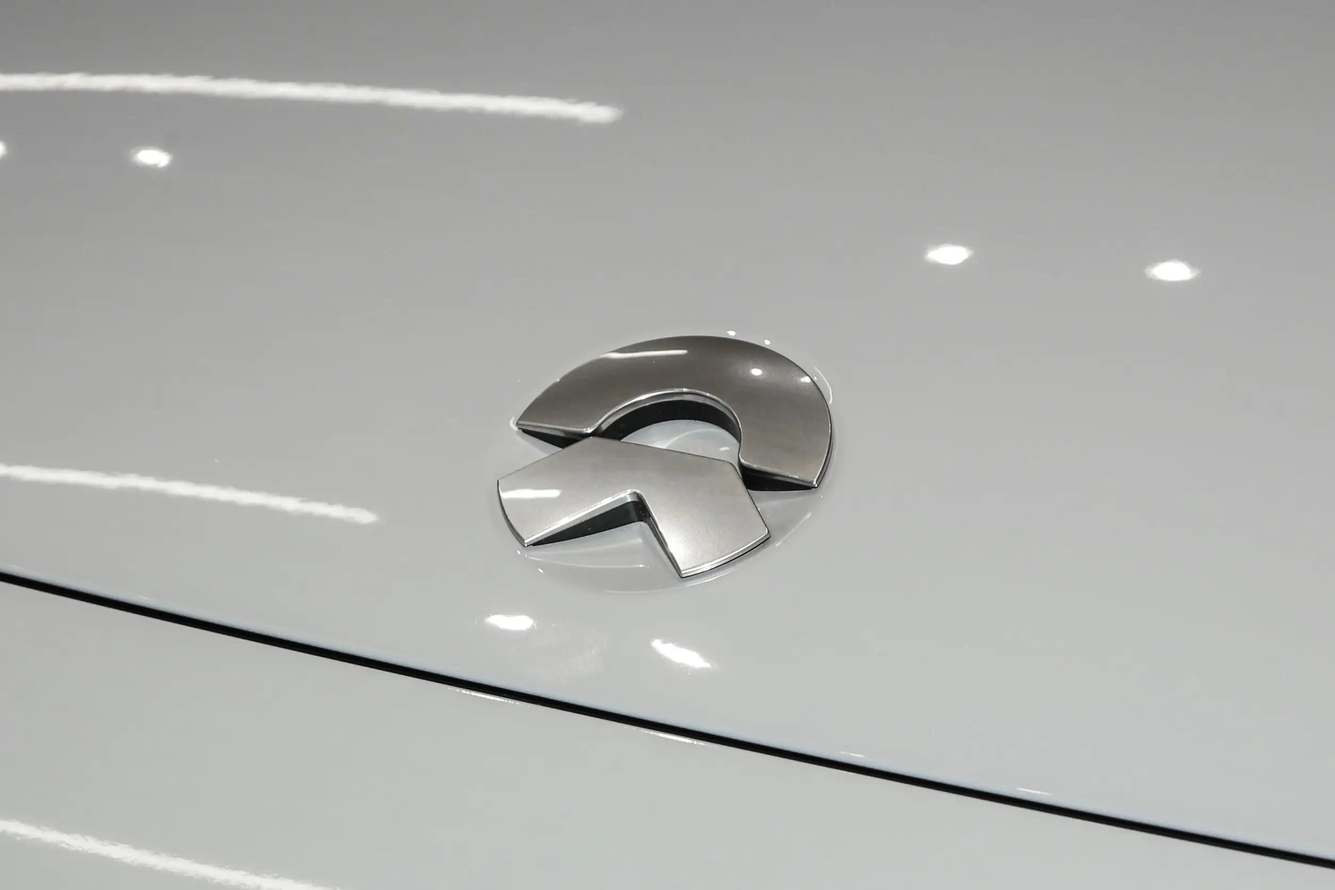NIO: (495, 333, 833, 582)
